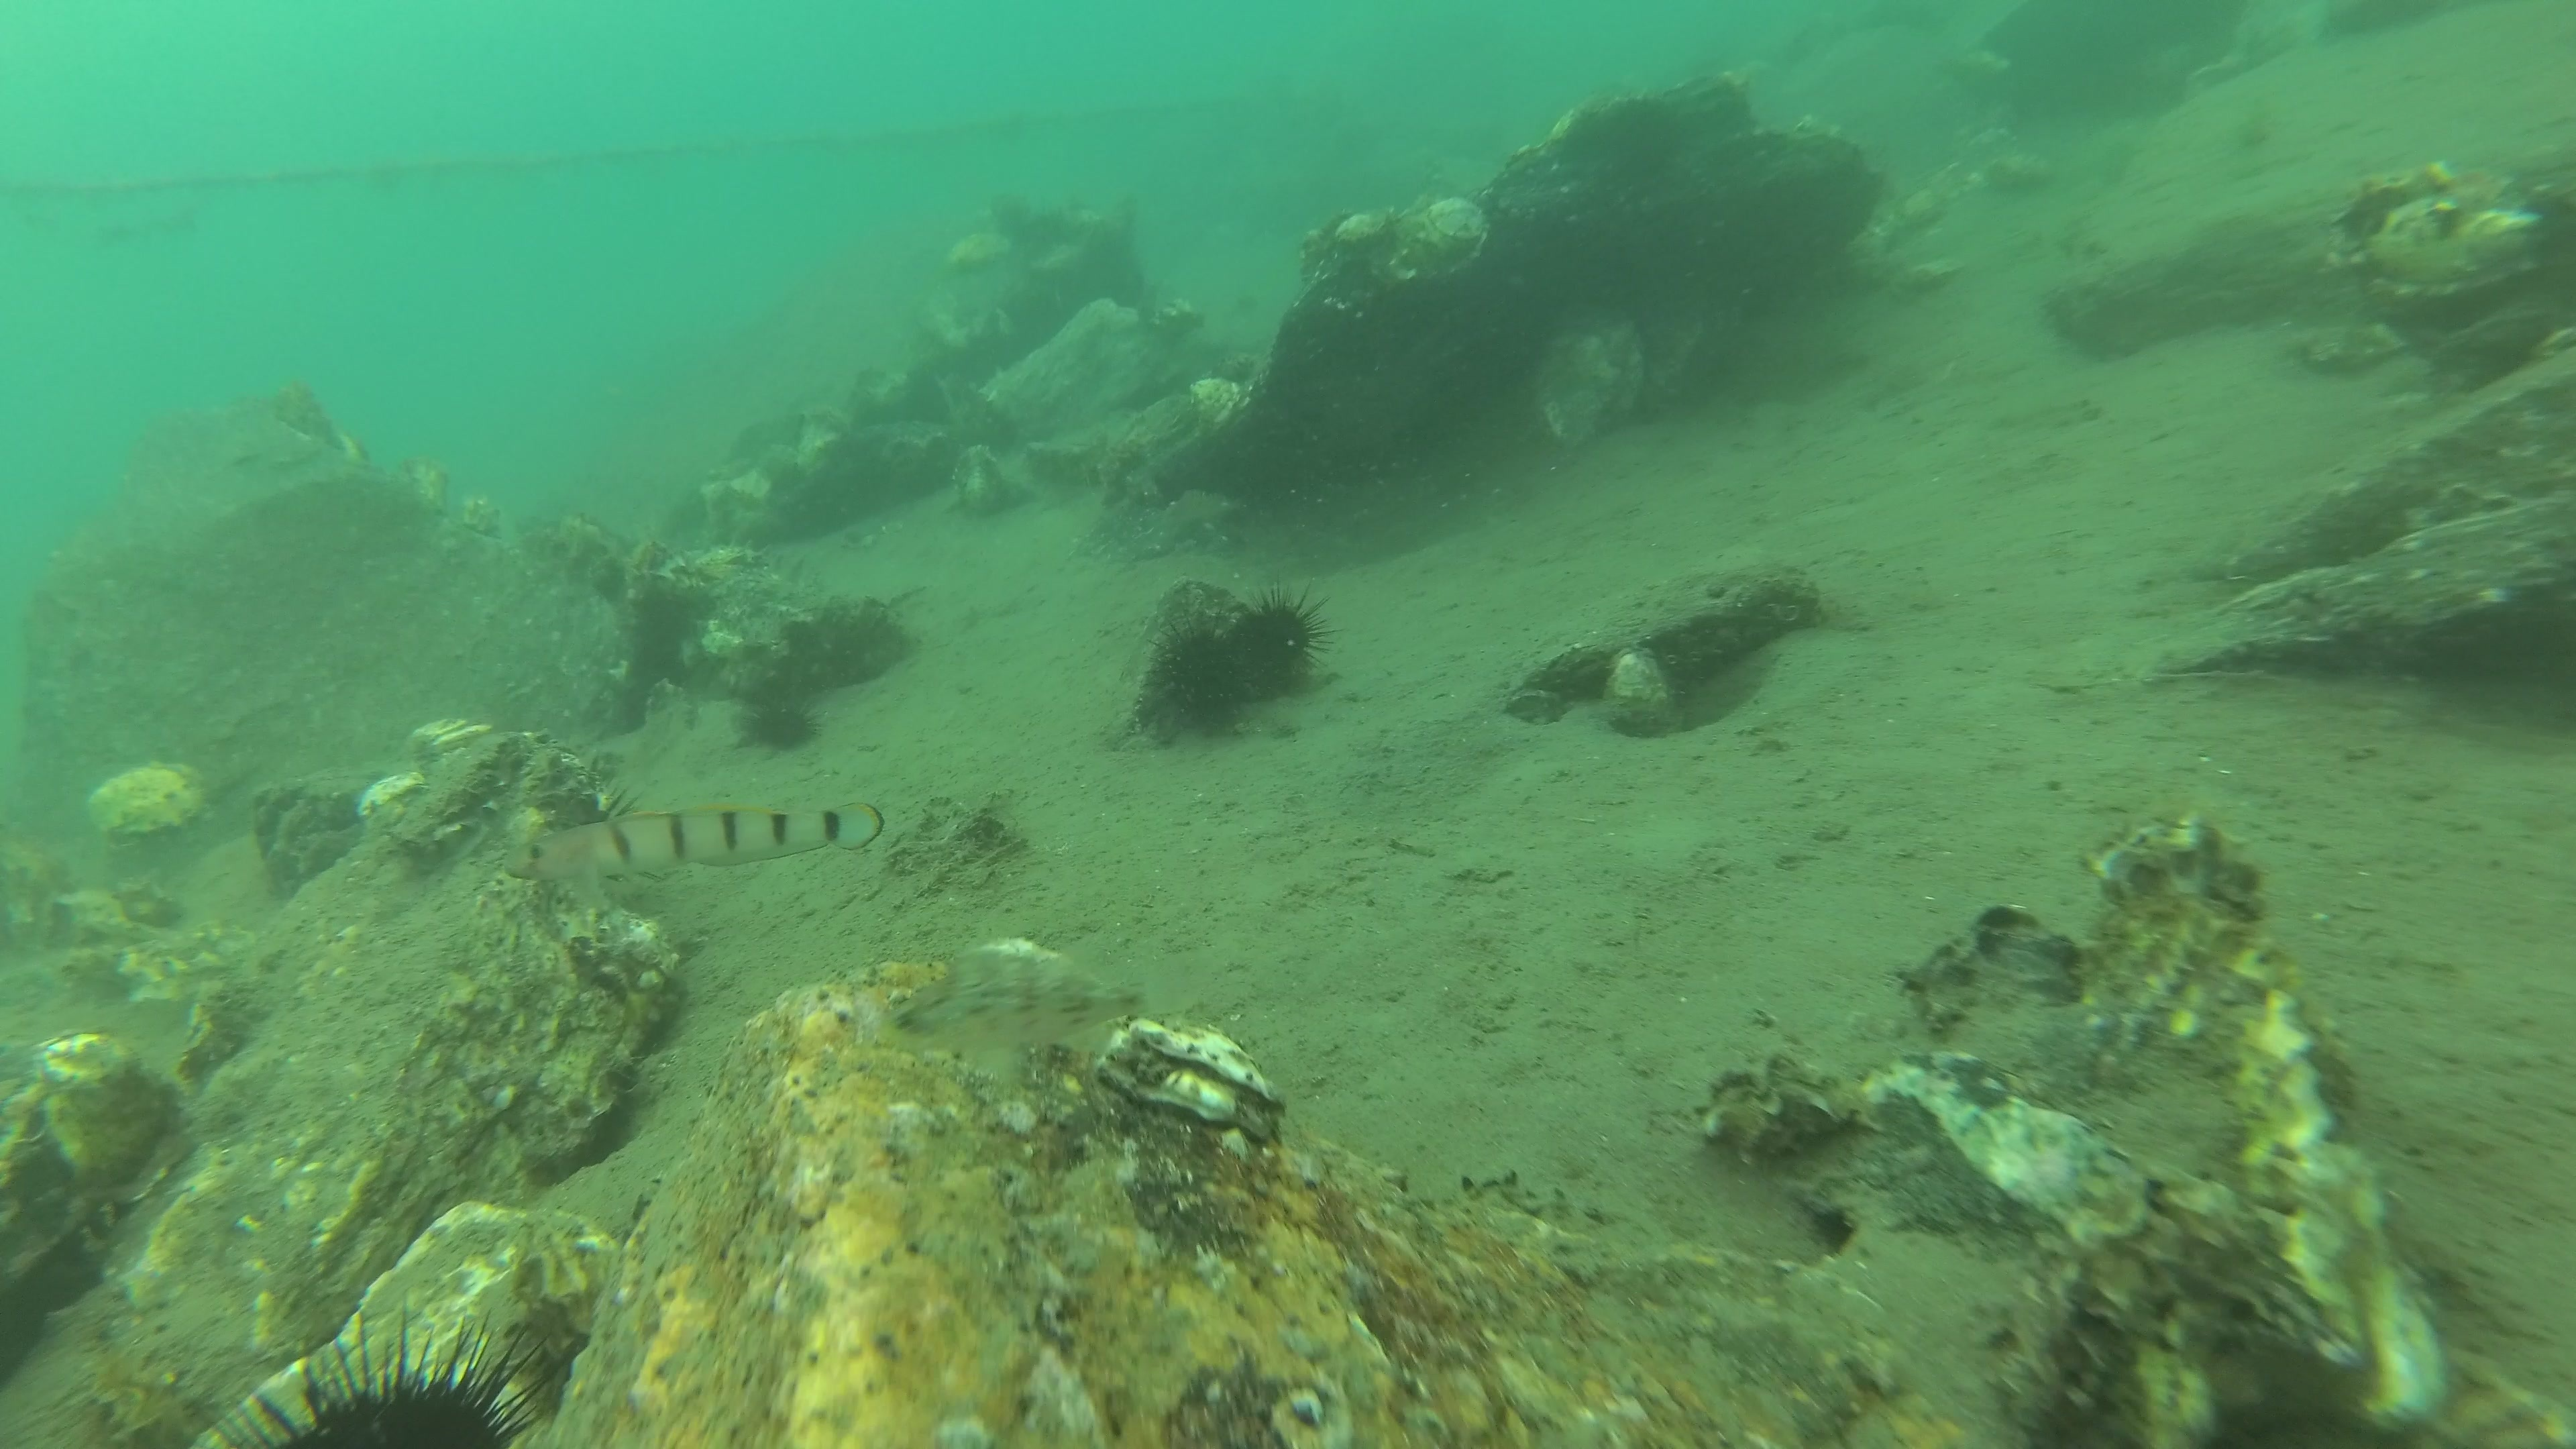echinus: (184, 1302, 570, 1449), (1145, 602, 1251, 734), (1233, 579, 1343, 685), (1608, 94, 1679, 173), (743, 692, 823, 750)
holothurian: (727, 534, 828, 591)
starfish: (1318, 331, 1474, 453)
